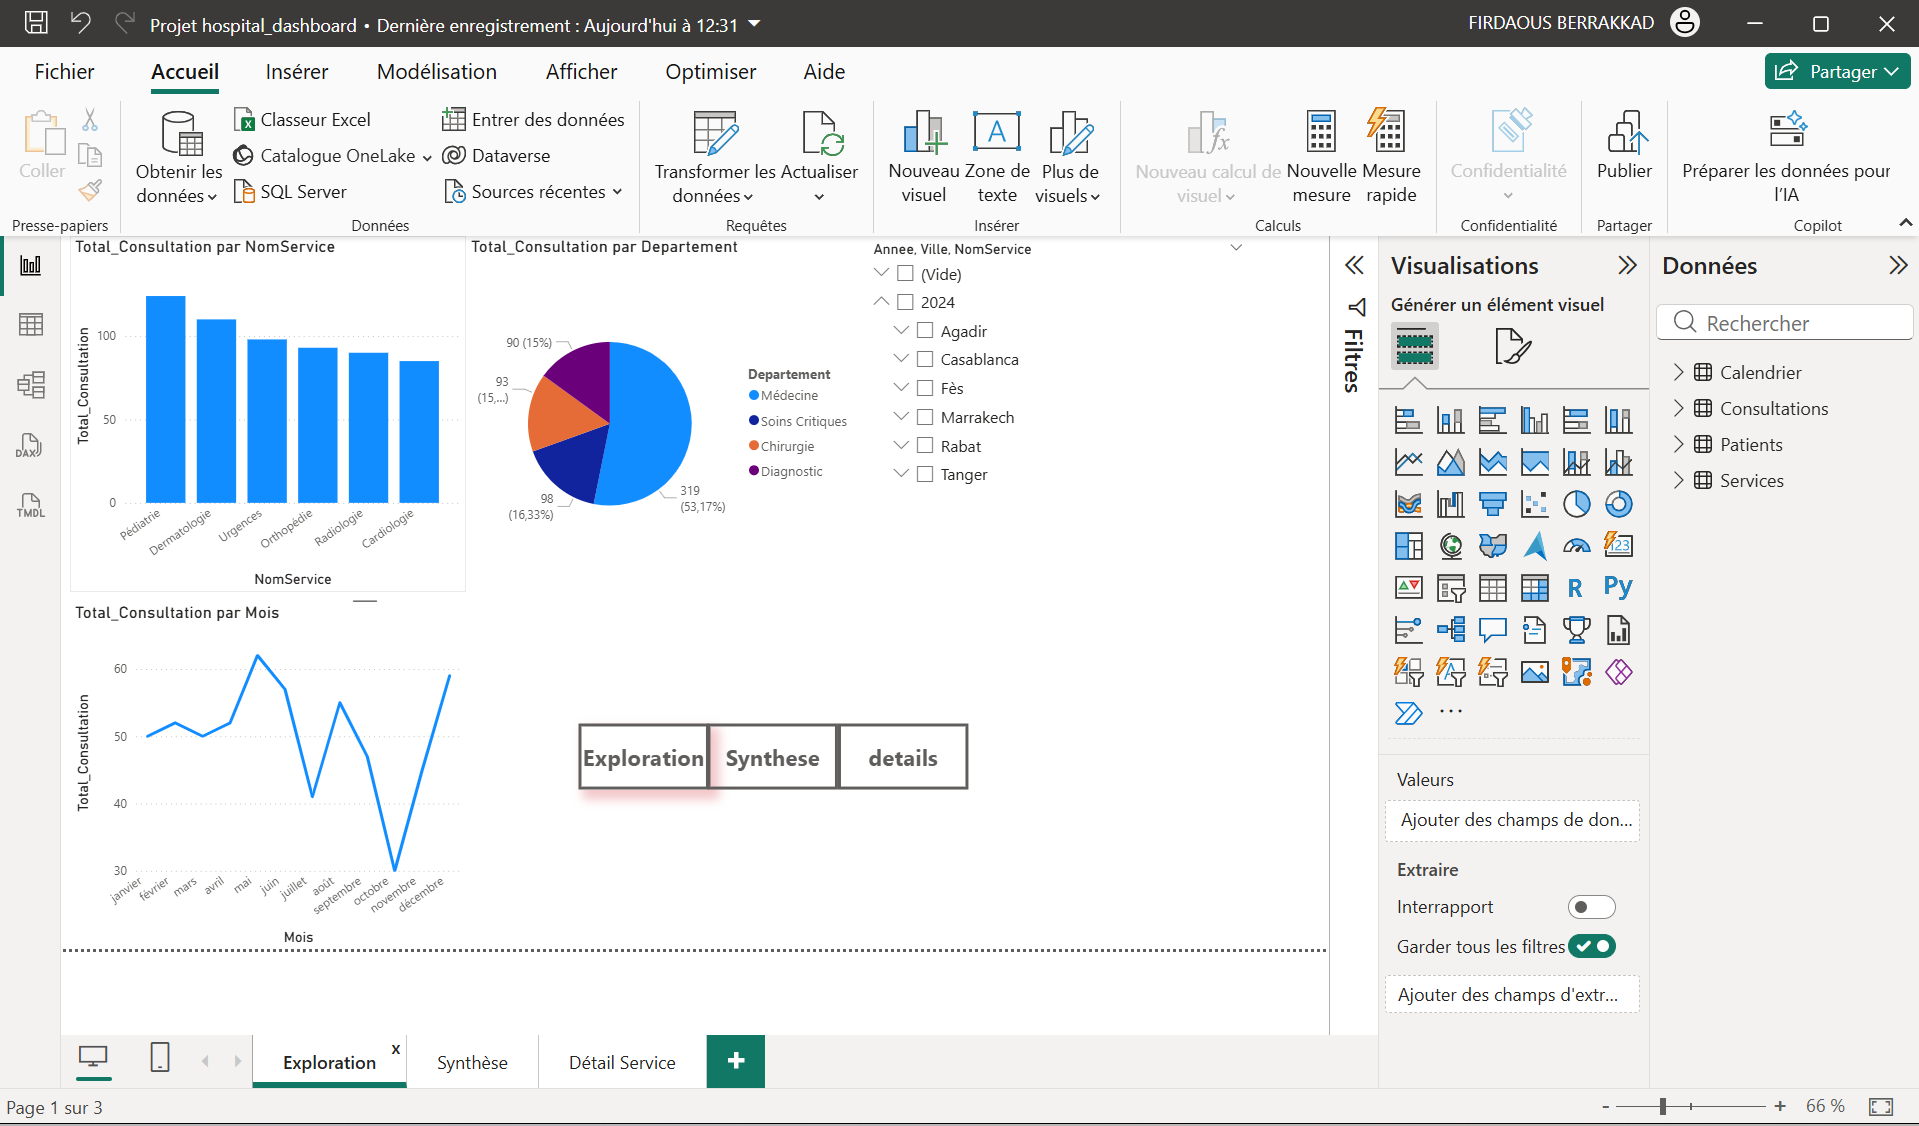

The page's visual inventory and layout, read from the dashboard file:
{"tool":"powerbi","page":{"name":"LES MESURES","canvas":[1280,720],"ordinal":0},"visuals":[{"type":"columnChart","fields":{"Category":["Services.NomService"],"Y":["Consultations.Total_Consultation"]},"box":[9.4,0,398.7,359.1],"z":0},{"type":"lineChart","fields":{"Y":["Consultations.Total_Consultation"],"Category":["Calendrier.Date.Variation.Hiérarchie de dates.Mois"]},"box":[9,369,399,351],"z":1000},{"type":"slicer","fields":{"Values":["Calendrier.Annee","Patients.Ville","Services.NomService"]},"box":[806.7,0,398.3,358.3],"z":2000},{"type":"pieChart","fields":{"Y":["Consultations.Total_Consultation"],"Category":["Services.Departement"]},"box":[408.2,0,398.7,359.1],"z":3000},{"type":"actionButton","box":[521.7,491.7,131.7,66.7],"z":4000},{"type":"actionButton","box":[653.3,491.7,131.7,66.7],"z":5000},{"type":"actionButton","box":[785,491.7,131.7,66.7],"z":6000}]}

Visuals, with their boxes on the page's 1280x720 design canvas (x1, y1, x2, y2). These are canvas units, not pixel positions in the 1919x1126 screenshot, which may show the page scaled, cropped or inside an application window:
columnChart - Services.NomService x Consultations.Total_Consultation: 9, 0, 408, 359
lineChart - Consultations.Total_Consultation x Calendrier.Date.Variation.Hiérarchie de dates.Mois: 9, 369, 408, 720
slicer - Calendrier.Annee x Patients.Ville: 807, 0, 1205, 358
pieChart - Consultations.Total_Consultation x Services.Departement: 408, 0, 807, 359
actionButton: 522, 492, 653, 558
actionButton: 653, 492, 785, 558
actionButton: 785, 492, 917, 558
